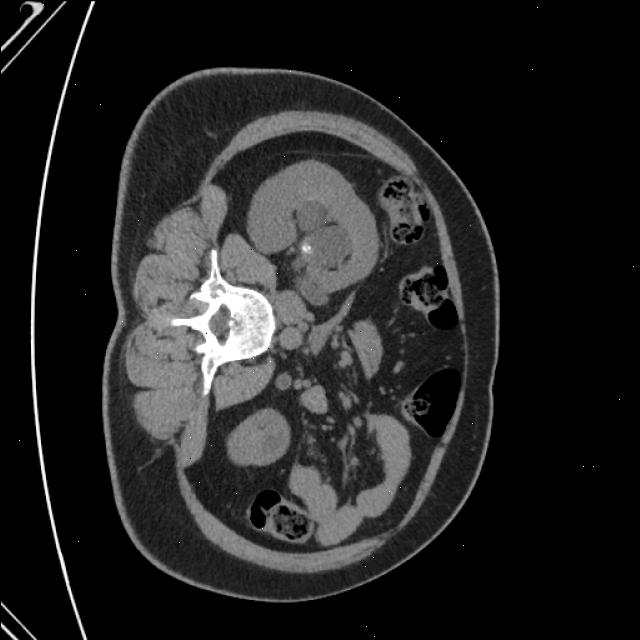kidneystone: (299, 240, 311, 255)
